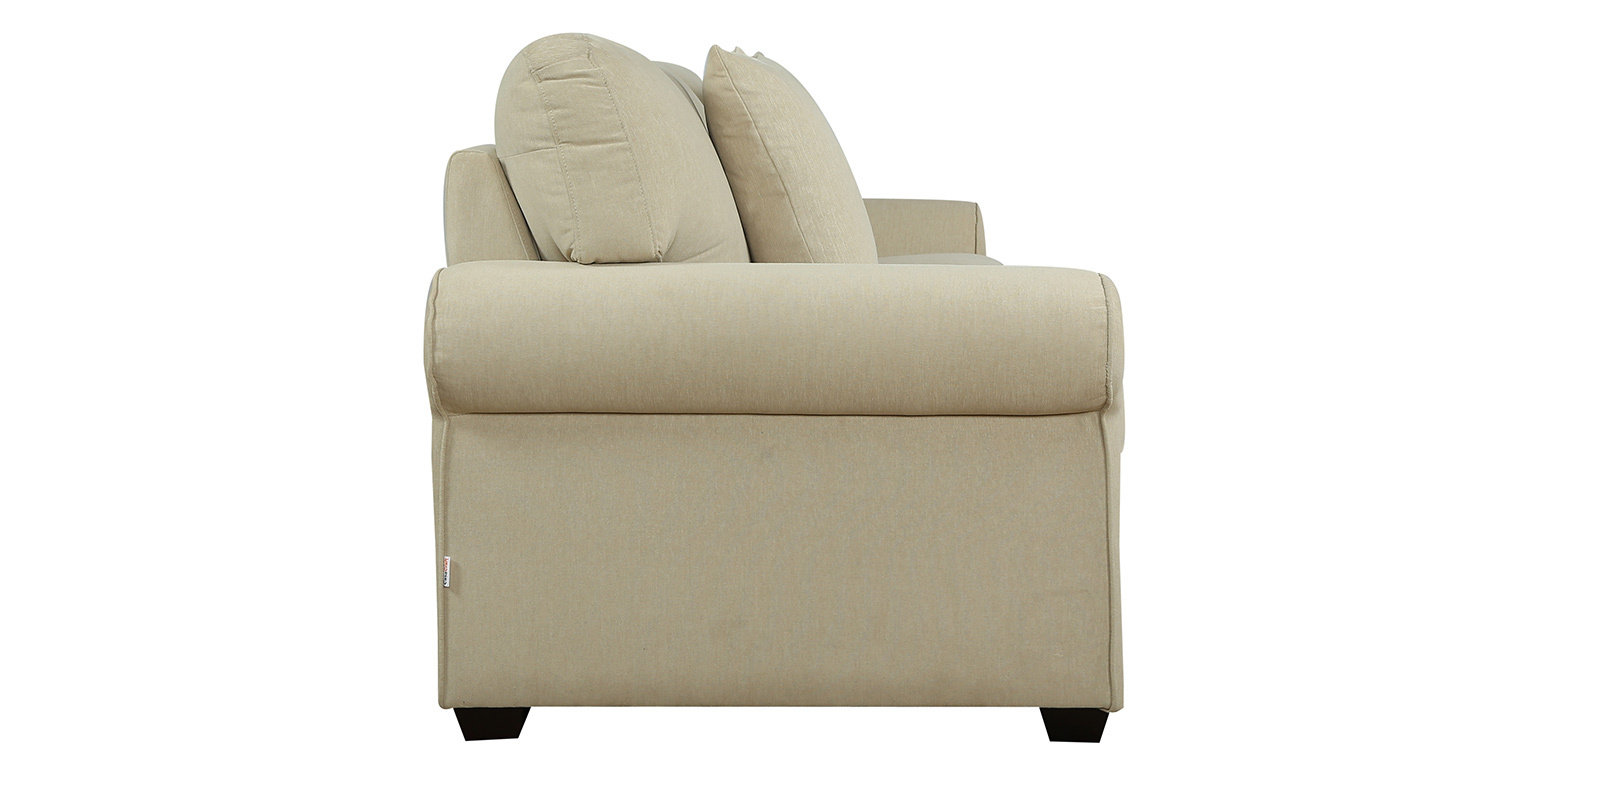Madeira Three Seater Sofa in Beige Colour by CasaCraft: (423, 31, 1126, 741)
